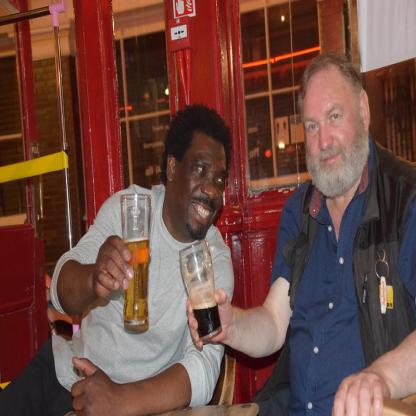drinking: (179, 238, 222, 341), (120, 193, 152, 326)
